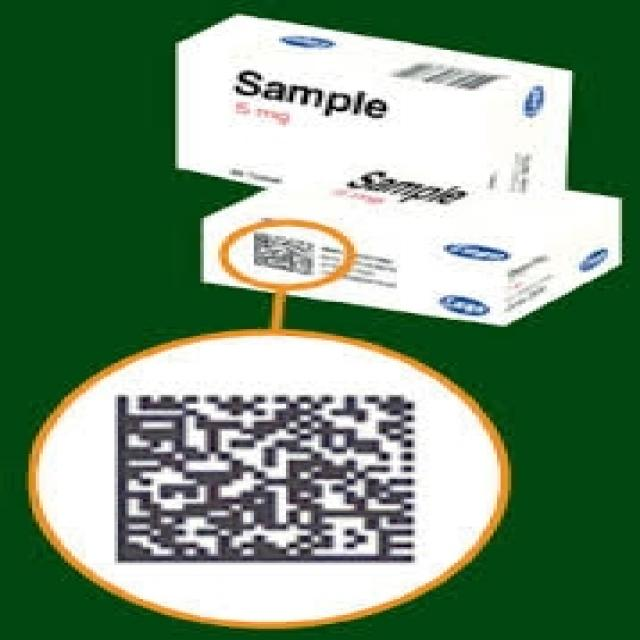datamatrix: (109, 391, 427, 571), (248, 228, 323, 285)
